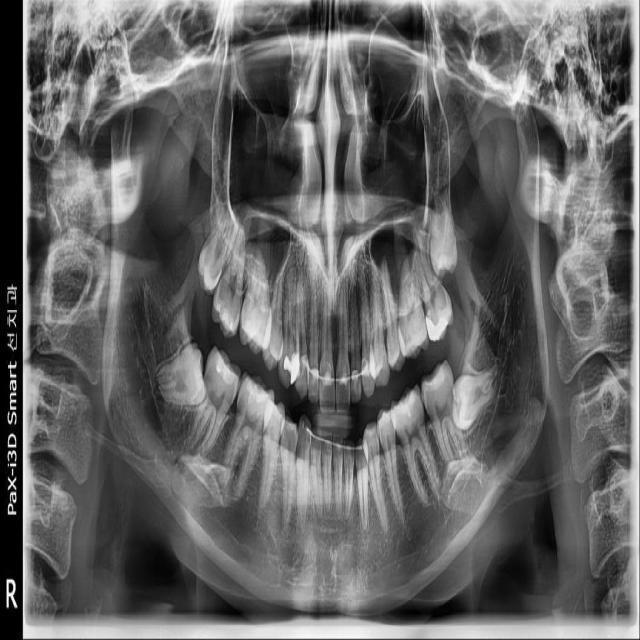Filling: (215, 352, 234, 385), (283, 352, 300, 384), (426, 315, 446, 341), (246, 383, 267, 403)
impacted tooth: (152, 342, 207, 405)
